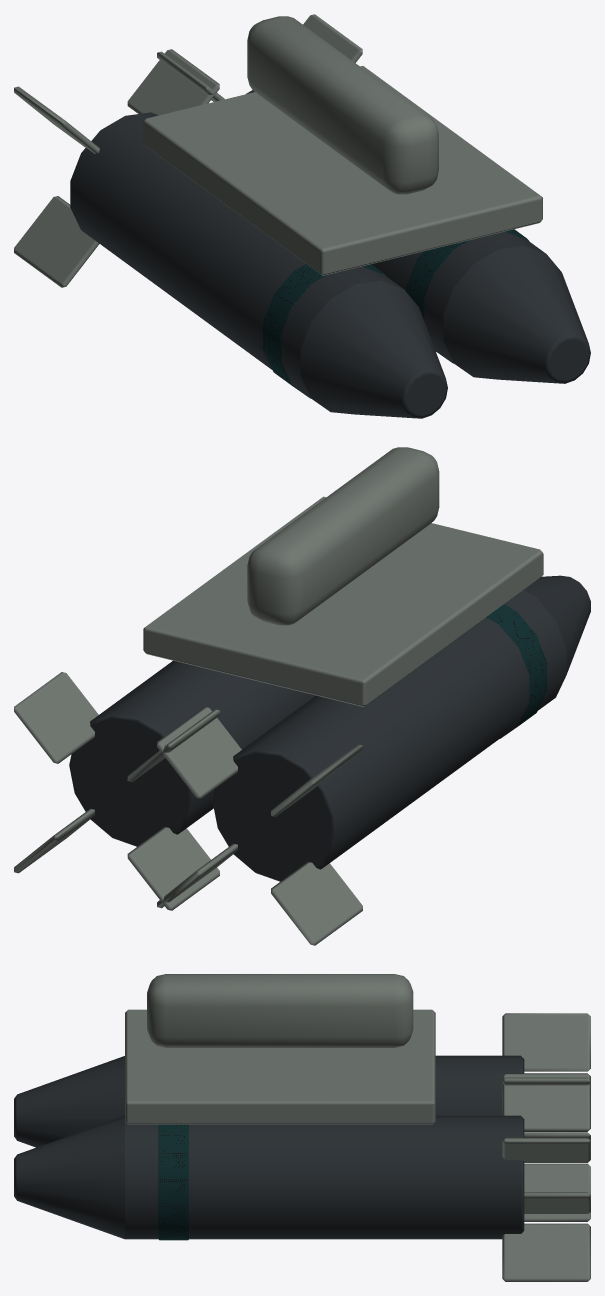
File: Rack_Bombs.fbx
3 views of the same model, one above another, from view 1: azimuth 30°, elevation 25°; view 2: azimuth 150°, elevation 25°; view 3: azimuth 270°, elevation 25° (orthographic). The views are drawn at different scales.
Parts seen in each view (by area): view 1: Rack_Bombs; view 2: Rack_Bombs; view 3: Rack_Bombs.
Part boxes in pixels (x1,y1,x2,y2): Rack_Bombs: [14, 14, 590, 418]; Rack_Bombs: [14, 447, 590, 945]; Rack_Bombs: [14, 974, 590, 1281].
Bounding box in the file's own units: 0.6736 × 0.5968 × 1.3.
